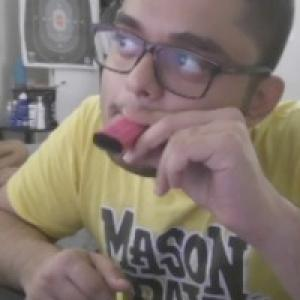Blume-E-Ciggirate: (90, 112, 150, 157)
